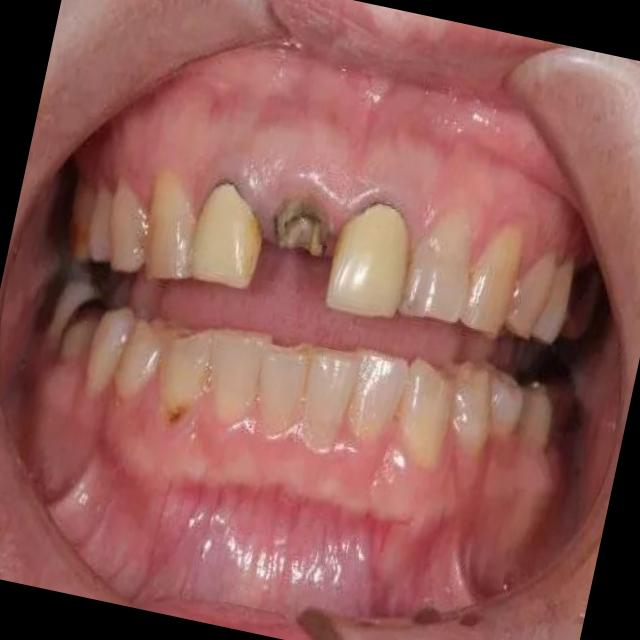Caries: (282, 212, 326, 231), (292, 246, 310, 255), (273, 215, 278, 237)
Tooth: (326, 202, 409, 318), (395, 207, 474, 321), (191, 181, 262, 287), (458, 223, 523, 338), (115, 315, 192, 406), (300, 346, 363, 454), (396, 360, 454, 471), (207, 328, 272, 427), (347, 350, 413, 446), (159, 327, 222, 425), (144, 168, 197, 280), (257, 342, 313, 435), (439, 361, 492, 455), (504, 251, 558, 340), (84, 308, 134, 397), (58, 296, 113, 369), (531, 254, 576, 343), (109, 178, 150, 274), (475, 358, 523, 438), (47, 278, 102, 346), (561, 255, 598, 338), (517, 382, 555, 449), (70, 175, 97, 263), (543, 378, 575, 450), (86, 180, 114, 262)
